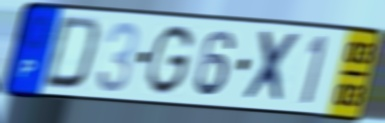1: (300, 33, 330, 108)
3: (97, 19, 140, 94)
6: (194, 28, 236, 98)
D: (40, 15, 103, 93)
G: (144, 23, 196, 98)
X: (240, 28, 303, 106)
